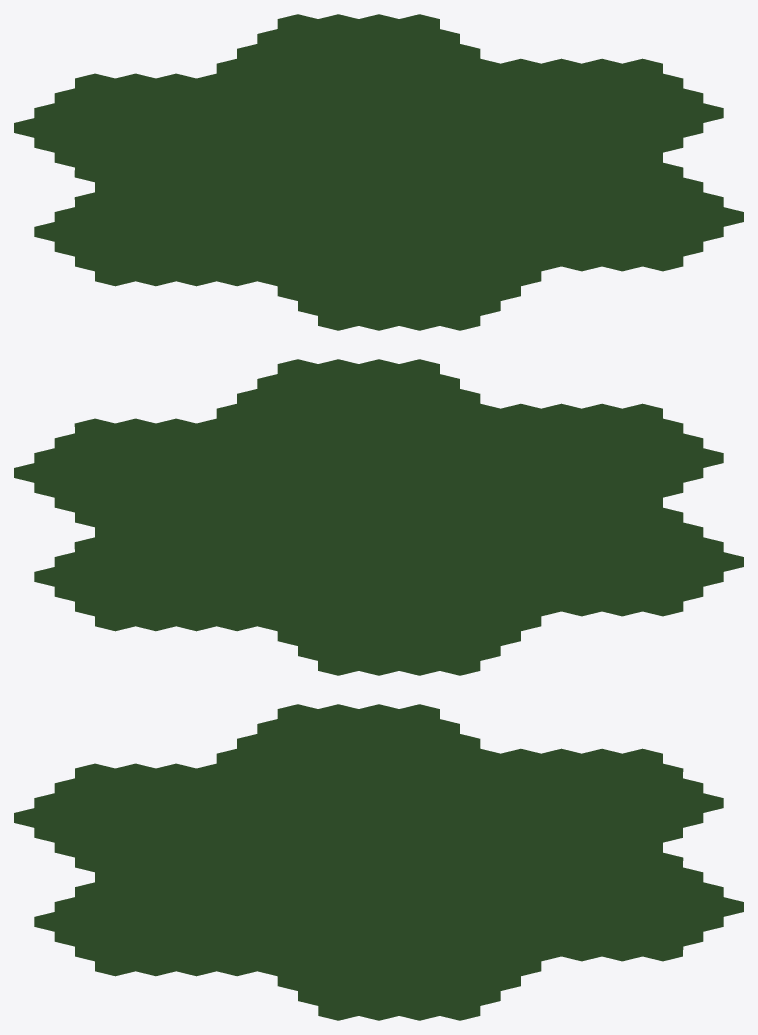
Rendered from Ground Test.fbx.
The picture shows the model from 3 angles, top to bottom: view 1: azimuth 30°, elevation 25°; view 2: azimuth 150°, elevation 25°; view 3: azimuth 270°, elevation 25°; orthographic projection.
Visible parts, largest first — view 1: group4_pCylinder56; view 2: group4_pCylinder56; view 3: group4_pCylinder56.
Boxes of the visible parts, x1=… form: group4_pCylinder56: x1=14, y1=14, x2=743, y2=330; group4_pCylinder56: x1=14, y1=359, x2=743, y2=675; group4_pCylinder56: x1=14, y1=704, x2=743, y2=1020.
Size of the model in its own units: 0.32 by 3.28e-09 by 0.3118.
